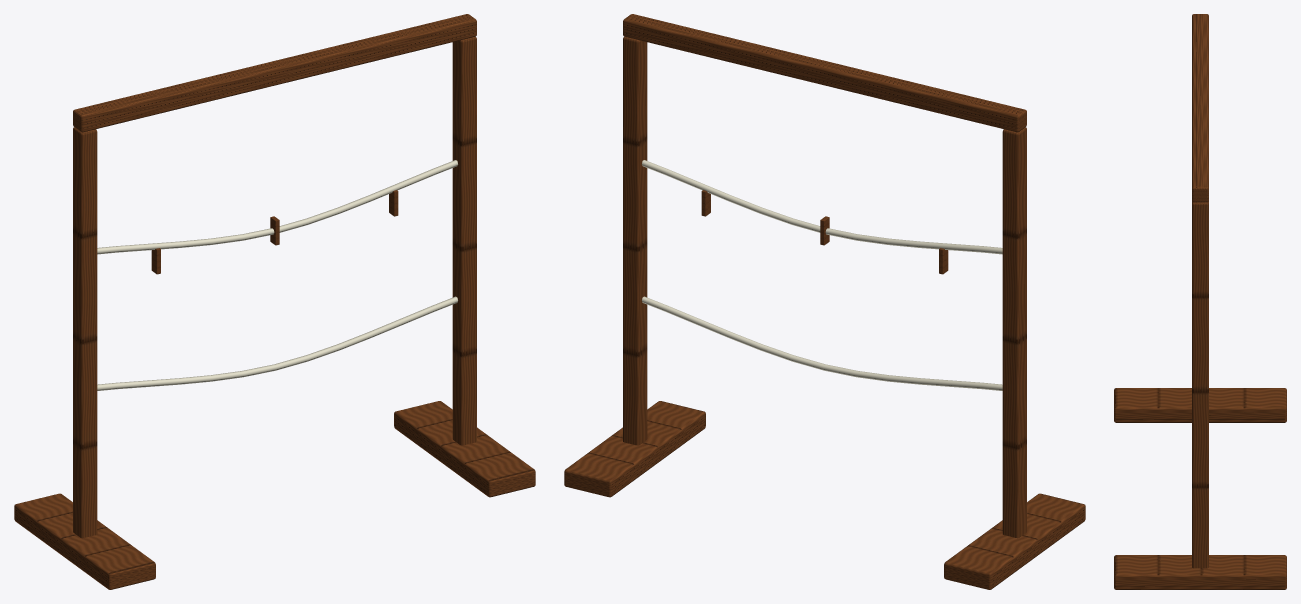
The model's file is prehistoric-expedition-sites-equipment-drying-frame-baf926c4__26140.glb.
3 renders of one model, left to right at view 1: azimuth 30°, elevation 25°; view 2: azimuth 150°, elevation 25°; view 3: azimuth 270°, elevation 25°, orthographic. The views are drawn at different scales.
Visible parts, largest first — view 1: equipment-drying-frame; view 2: equipment-drying-frame; view 3: equipment-drying-frame.
Boxes of the visible parts, x1,y1,x2,y2 form: equipment-drying-frame: [14, 14, 535, 589]; equipment-drying-frame: [564, 14, 1085, 589]; equipment-drying-frame: [1114, 14, 1286, 589].
Size of the model in its own units: 1.8 by 1.77 by 0.6999.
2 materials, 1 textured.
